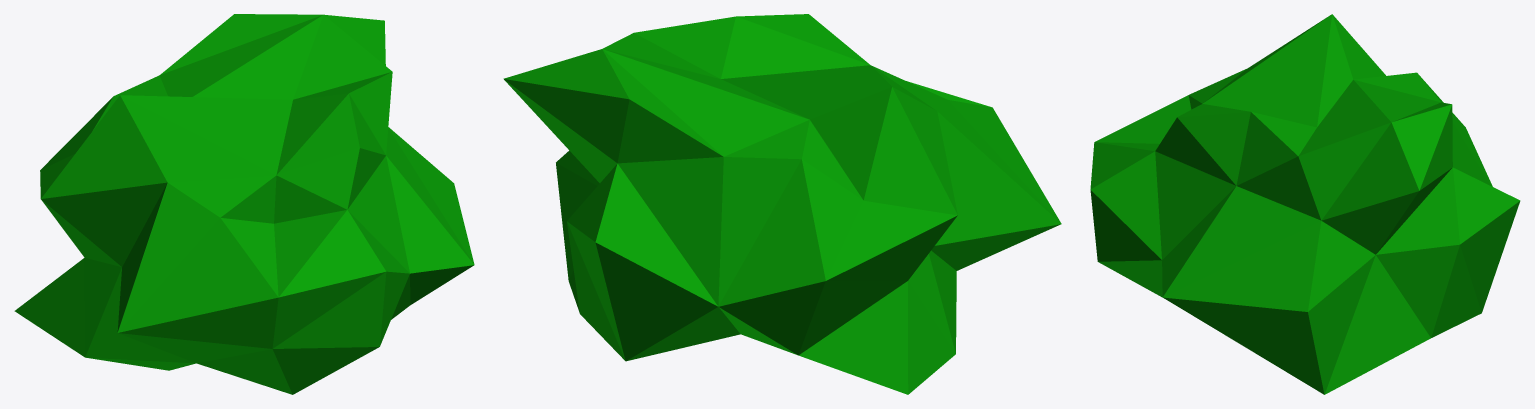
Rendered from Bush.fbx.
3 views of the same model, side by side, from view 1: azimuth 30°, elevation 25°; view 2: azimuth 150°, elevation 25°; view 3: azimuth 270°, elevation 25° (orthographic). The views are drawn at different scales.
Visible parts, largest first — view 1: Bushes_Small01.001; view 2: Bushes_Small01.001; view 3: Bushes_Small01.001.
Boxes of the visible parts, x1,y1,x2,y2 form: Bushes_Small01.001: (14,14,474,394); Bushes_Small01.001: (503,14,1061,394); Bushes_Small01.001: (1090,14,1520,394).
Bounding box in the file's own units: 75.31 × 73.81 × 48.64.
